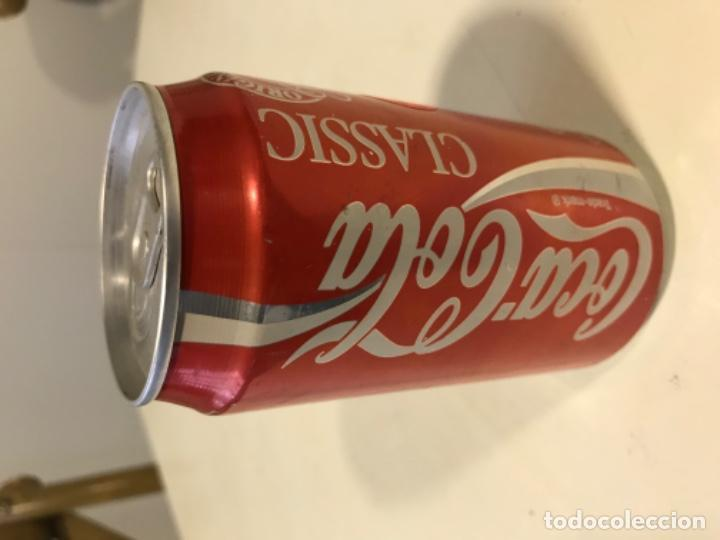metal: (102, 72, 665, 414)
